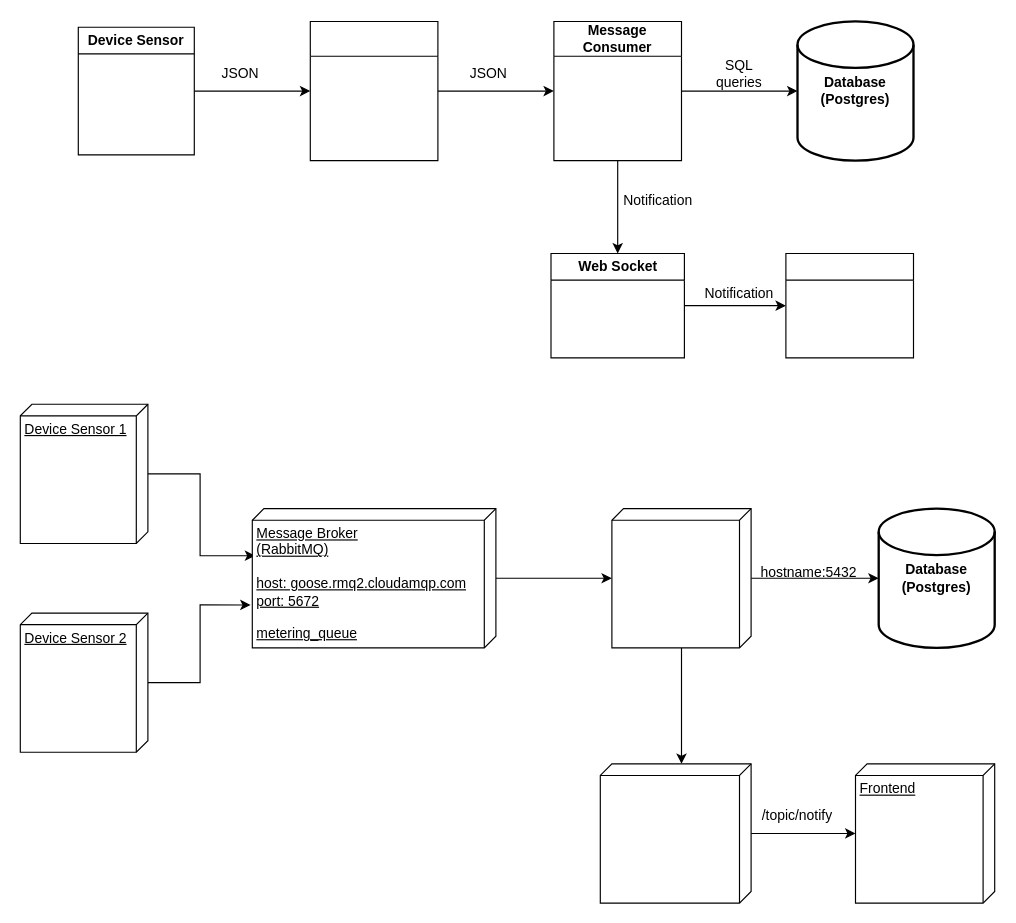
This 1016x923 diagram has some shape labels left out. The centre of each missing label's shape, as x and y in pixels:
"Frontend (VueJS)" goes at point (849, 305).
"Message Broker (RabbitMQ)" goes at point (373, 90).
"Message Receiver" goes at point (681, 577).
"Web Socket hostname:8080 /gs-guide-websocket" goes at point (675, 833).
